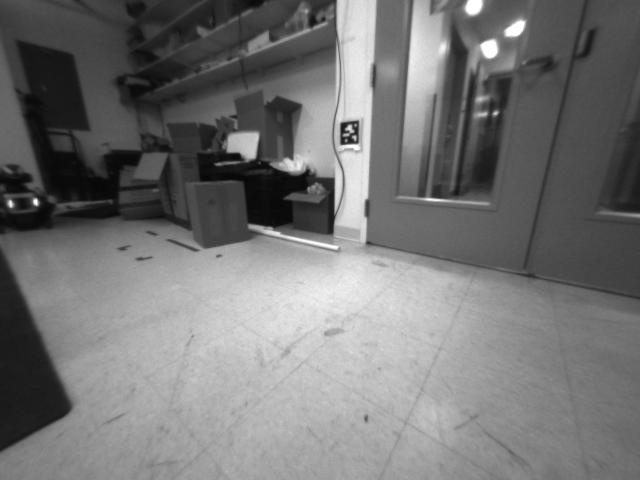door_handle: (516, 51, 557, 75)
